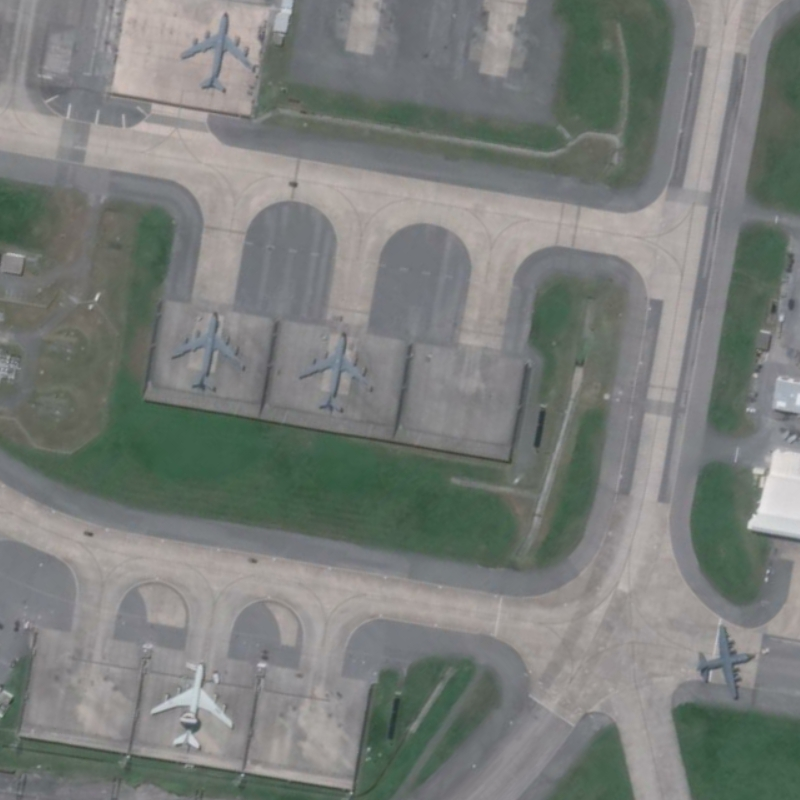A14: (163, 301, 252, 399), (291, 324, 382, 417), (179, 7, 263, 100)
A2: (691, 619, 759, 708)
A7: (144, 659, 241, 755)
